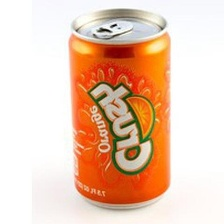can: (66, 0, 174, 213)
